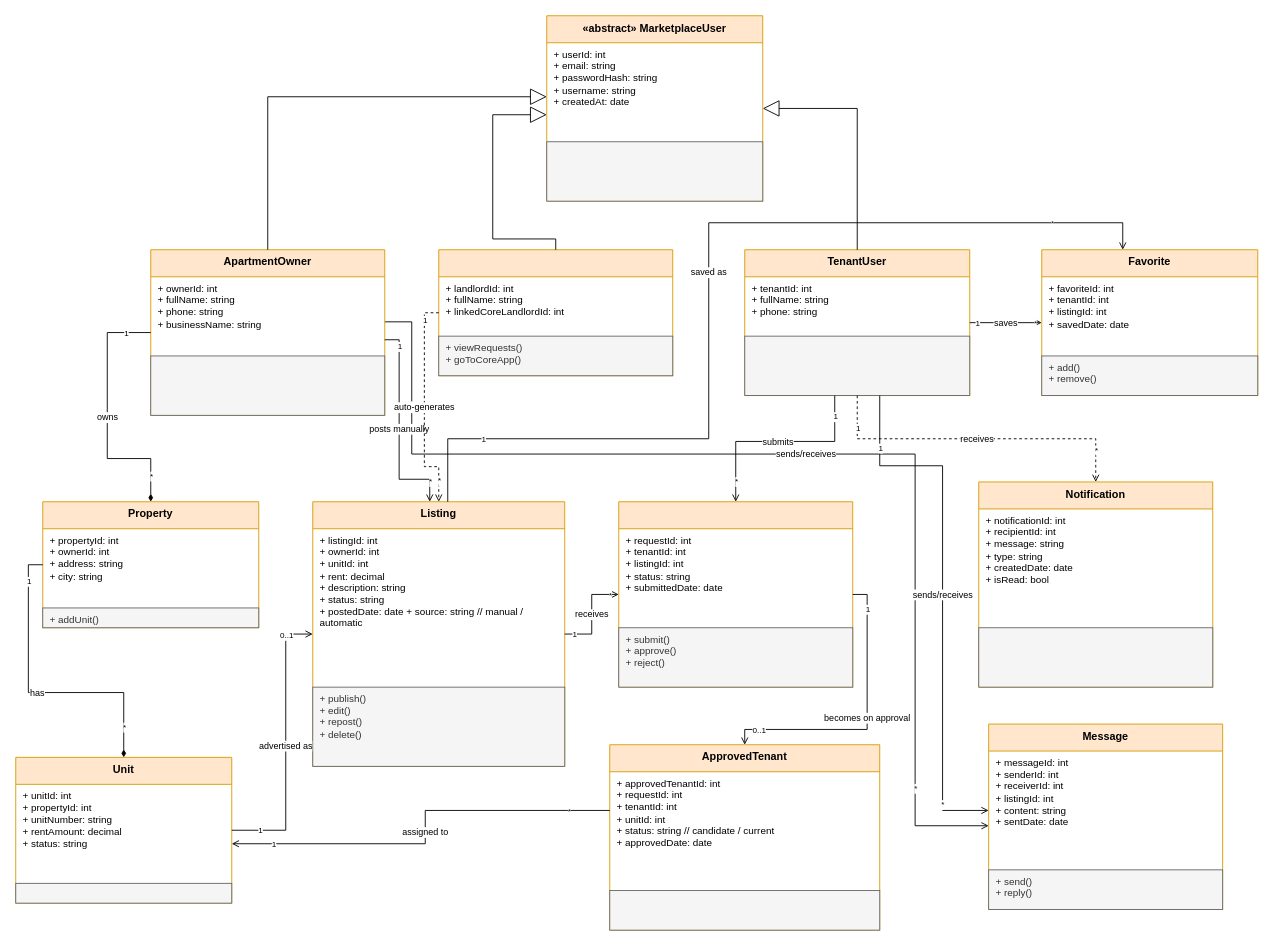
Some shapes in this 1274 by 949 pixel diagram are drawn without their labels. Here are the shapes that lost their labels. From the top down, the box of each, then its label:
(546, 141, 763, 201): + login() + logout() + register()
(438, 249, 673, 376): LandLordAccount
(150, 355, 385, 415): + addProperty() + postAd() + manageListings()
(744, 335, 970, 396): + searchProperties() + submitRequest() + chat()
(618, 501, 853, 687): BookingRequest
(978, 627, 1213, 687): + send() + markAsRead() + delete()
(15, 882, 232, 903): + setStatus()
(609, 890, 880, 930): + changeStatusToCurrent() + syncToLandLordCore()
